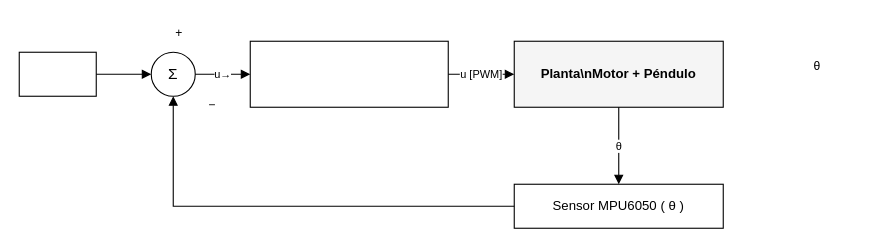
Some shapes in this 886 by 248 pixel diagram are drawn without their labels. The centre of each missing label's shape, as x and y in pixels:
"Controlador H∞ K(z)\n(sensibilidad mixta)\nmixsyn(G,W1,W2,W3)" goes at pixel 348 73.
"θ_ref = 0" goes at pixel 57 73.
